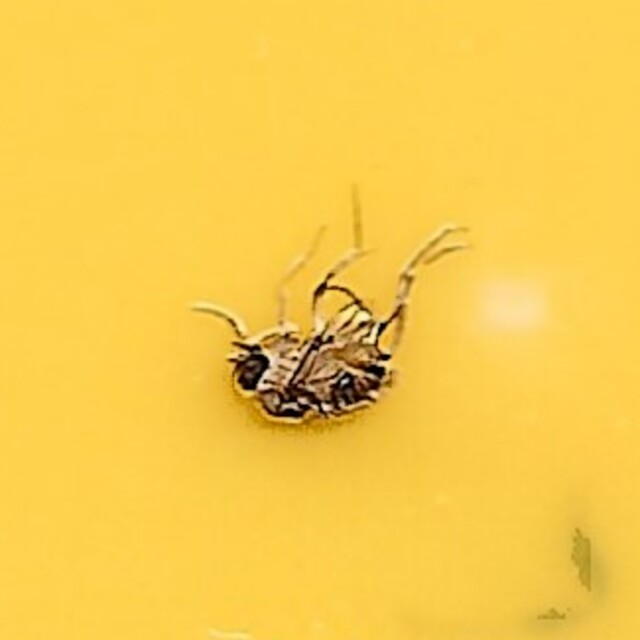Brachycera: (197, 208, 443, 432)
